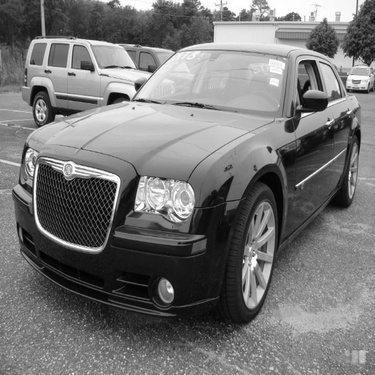car: (12, 34, 362, 330), (13, 35, 162, 122), (97, 42, 199, 101), (339, 54, 372, 98)
